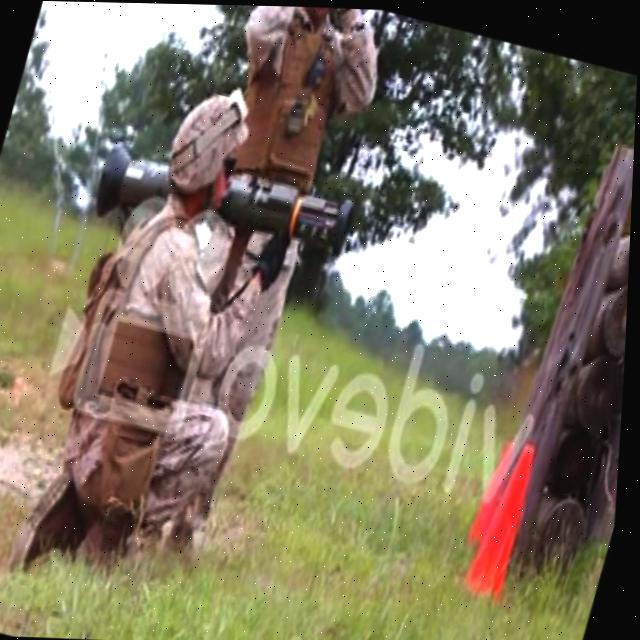rocket: (89, 130, 362, 271)
